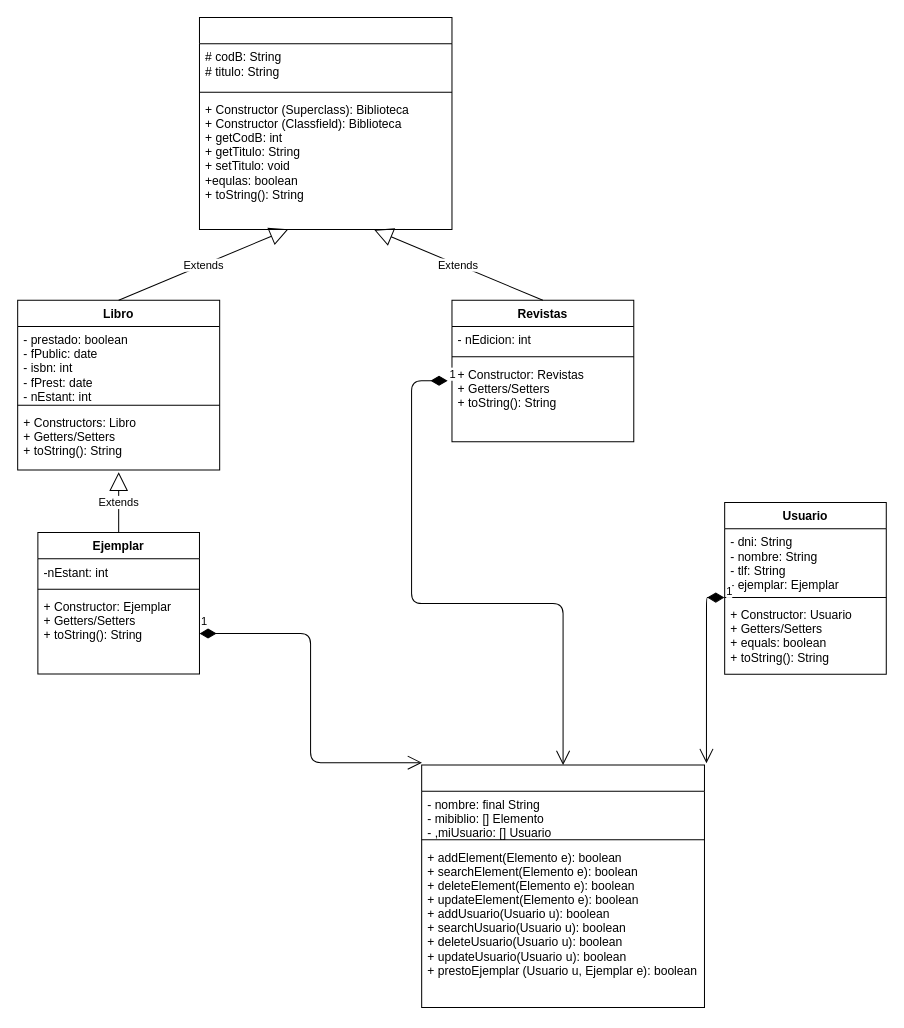
Image size: 904x1028. Some labels were removed from this diagram. The box of each missing label's shape, as (x1, y1, x2, y2) in pixels:
Biblioteca: (421, 764, 704, 1007)
Elemento: (198, 16, 452, 230)
